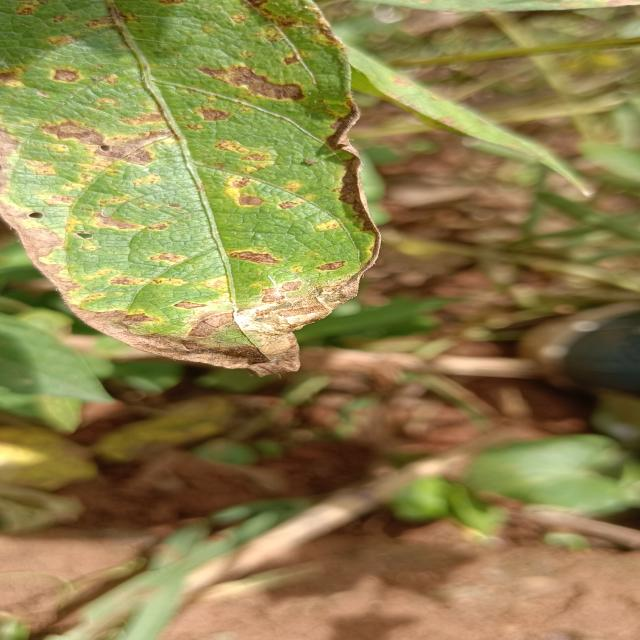Black gram_leaf spot: (0, 0, 392, 380)
